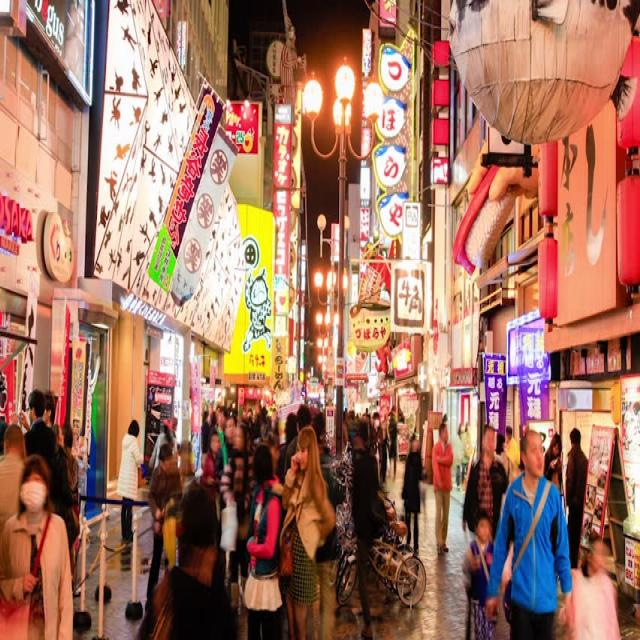body: (480, 422, 576, 638), (0, 446, 76, 638), (276, 421, 338, 639), (161, 481, 245, 639), (239, 441, 285, 639), (554, 526, 628, 638), (350, 433, 388, 640), (218, 419, 257, 617), (144, 442, 182, 614), (49, 420, 82, 600), (461, 422, 510, 542), (21, 386, 58, 511), (461, 508, 495, 640), (114, 415, 147, 544), (61, 420, 82, 599), (0, 420, 31, 540), (429, 419, 455, 560), (564, 427, 589, 569), (400, 439, 424, 557), (283, 400, 315, 479), (198, 427, 222, 502), (493, 432, 514, 516), (214, 414, 237, 478), (148, 417, 174, 471), (542, 432, 563, 496), (502, 424, 522, 484), (383, 400, 398, 480), (379, 404, 392, 492), (370, 409, 383, 495), (215, 407, 229, 468), (460, 421, 472, 492), (461, 419, 473, 488), (200, 409, 212, 471), (242, 404, 282, 421), (41, 391, 57, 429), (342, 404, 370, 425), (168, 414, 180, 454), (283, 409, 298, 440), (215, 400, 242, 415), (261, 421, 277, 443), (441, 412, 449, 421)
